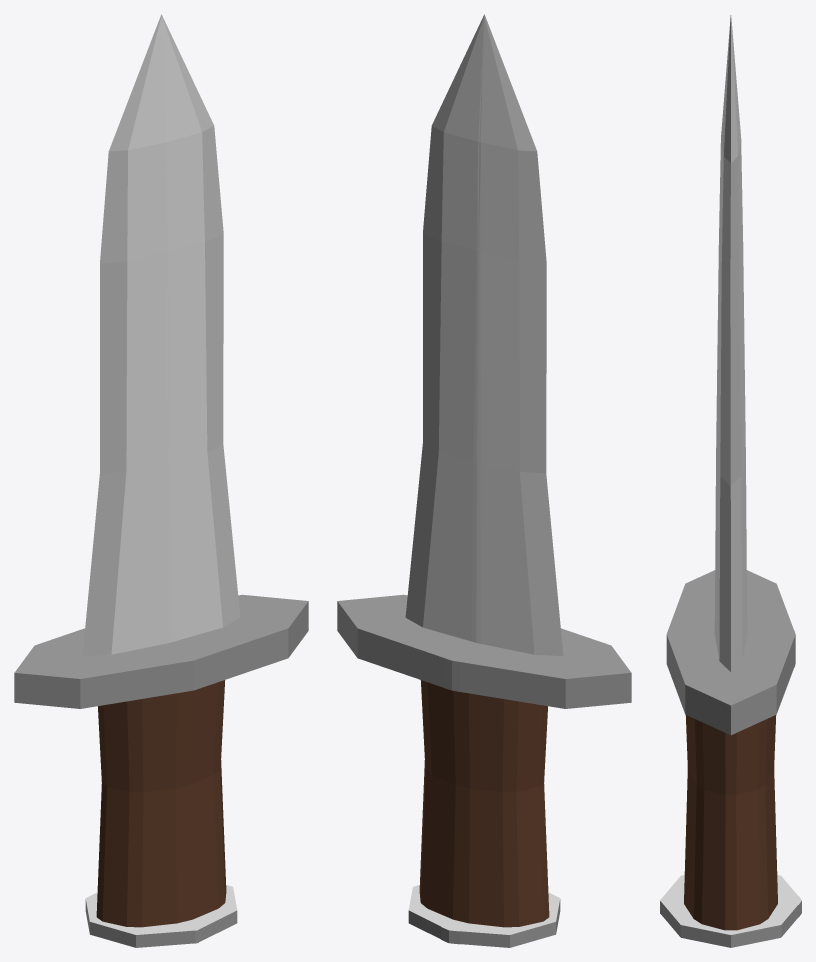
Rendered from Dagger.fbx.
The picture shows the model from 3 angles, left to right: view 1: azimuth 30°, elevation 25°; view 2: azimuth 150°, elevation 25°; view 3: azimuth 270°, elevation 25°; orthographic projection.
Visible parts, largest first — view 1: Cylinder; view 2: Cylinder; view 3: Cylinder.
Boxes of the visible parts, x1,y1,x2,y2 form: Cylinder: (14, 14, 308, 947); Cylinder: (337, 14, 631, 947); Cylinder: (660, 15, 801, 947).
Size of the model in its own units: 13.72 by 40.26 by 5.76.
